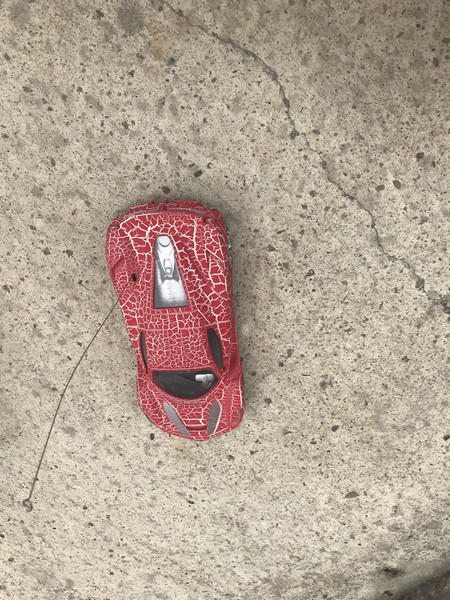RC: (104, 198, 254, 442)
